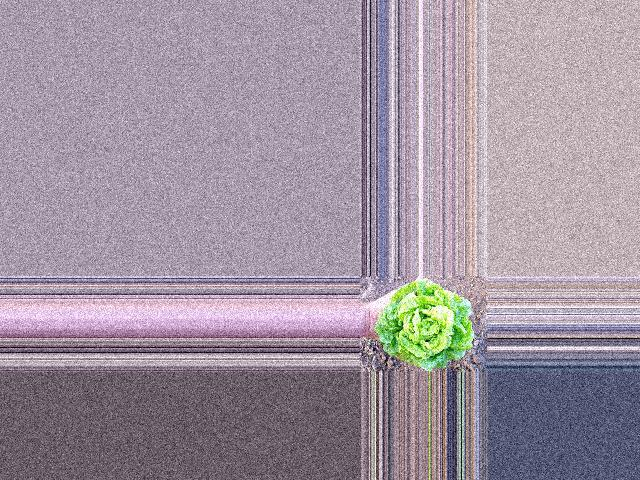lettuce: (381, 280, 475, 368)
